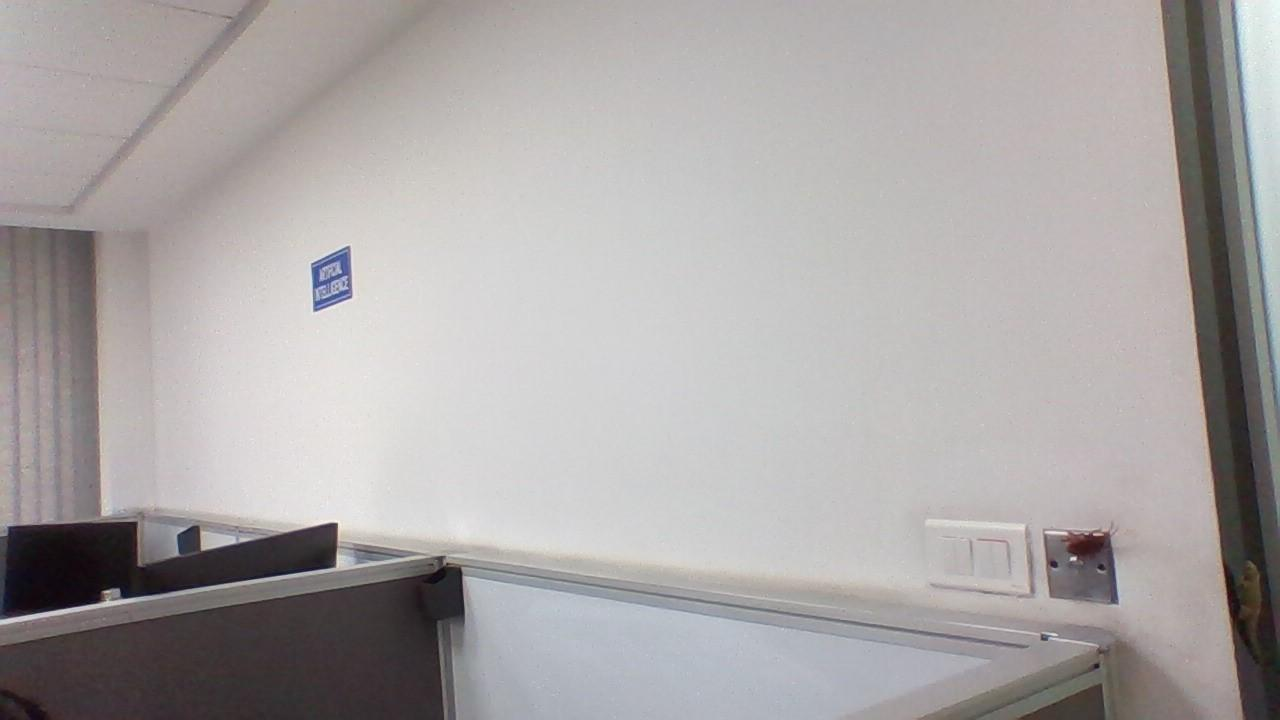cockroach: (1055, 530, 1125, 572)
lizard: (1223, 555, 1277, 659)
